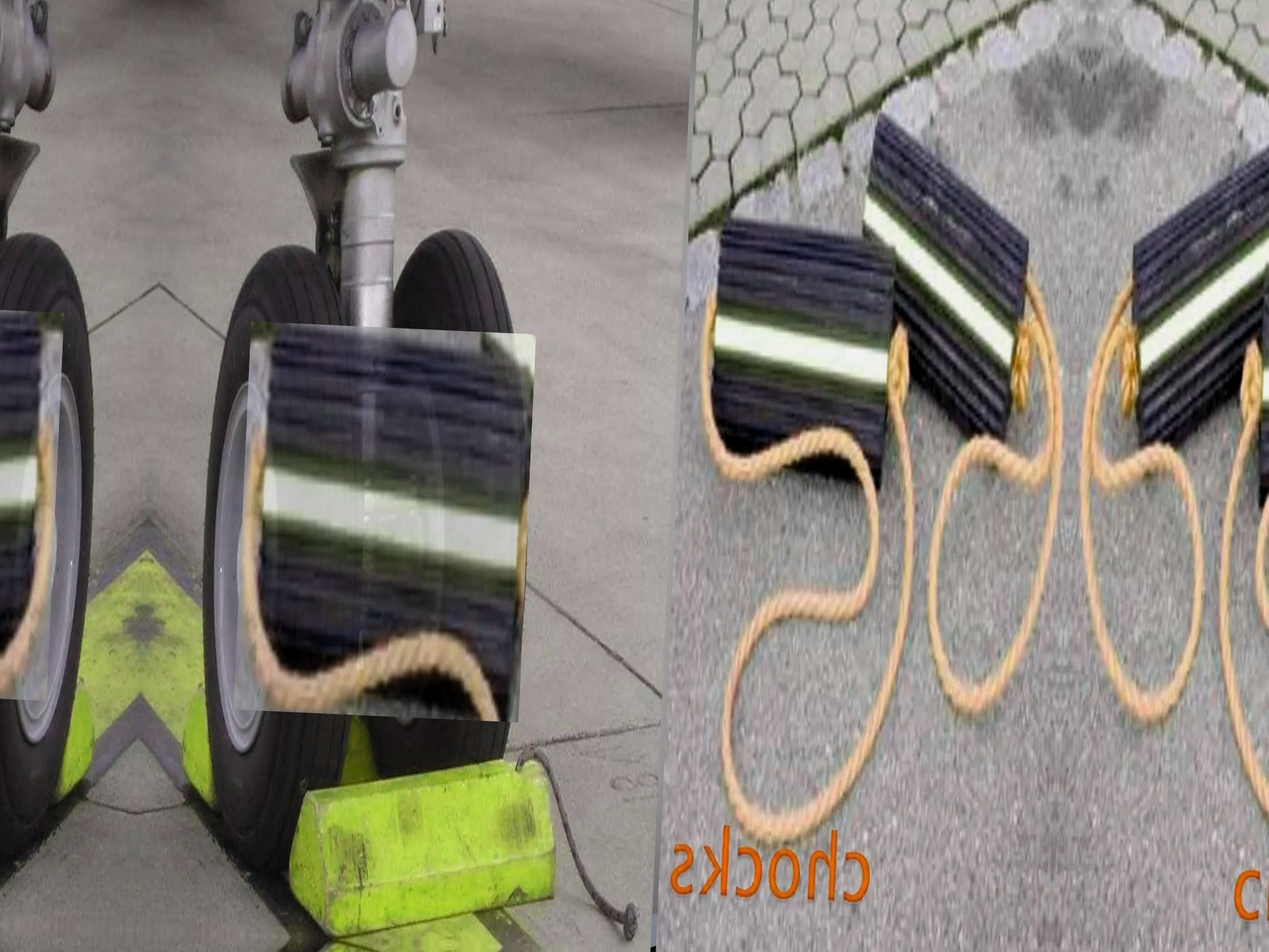chock: (234, 321, 536, 722), (849, 109, 1037, 442), (282, 732, 565, 937), (695, 217, 900, 488), (1123, 121, 1269, 455)
wheel: (188, 245, 375, 878), (358, 227, 543, 791), (0, 233, 105, 865)
